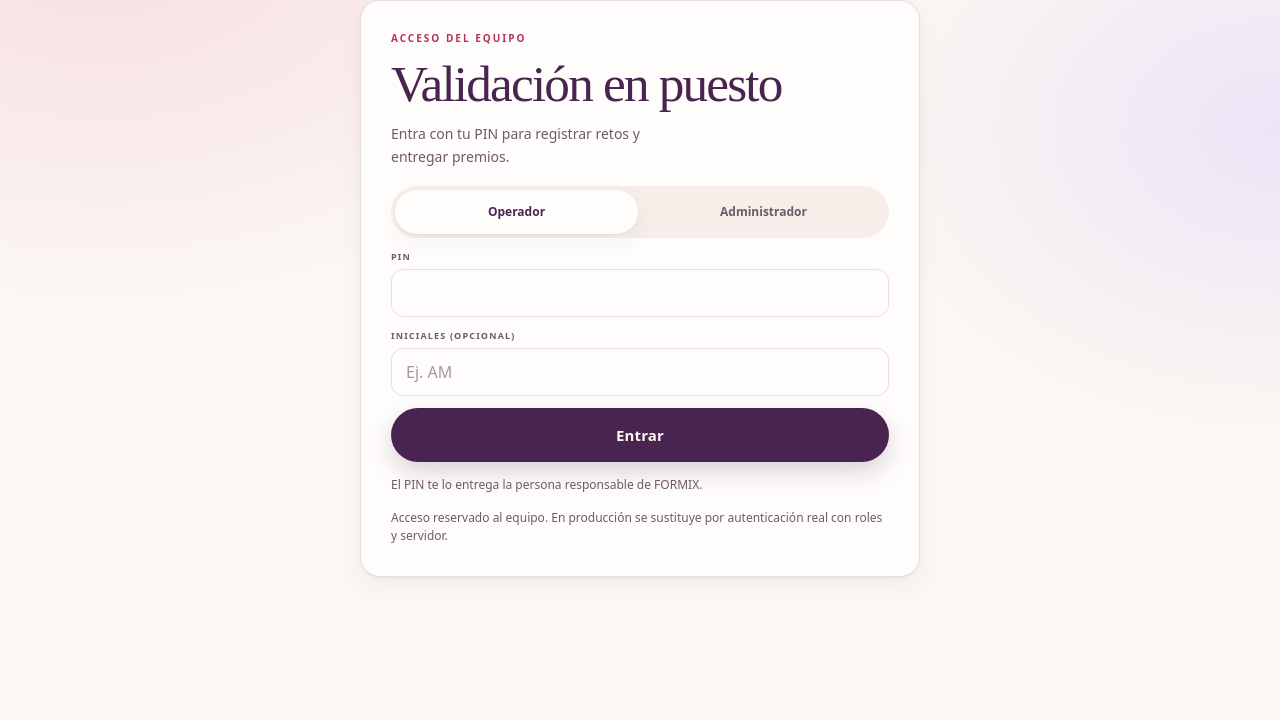
Test: staff login rejects a wrong PIN
The width and height of the screenshot is (1280, 720).
Type "0000" into the password field labelled "PIN" at (640, 293), box [391,269,889,317]
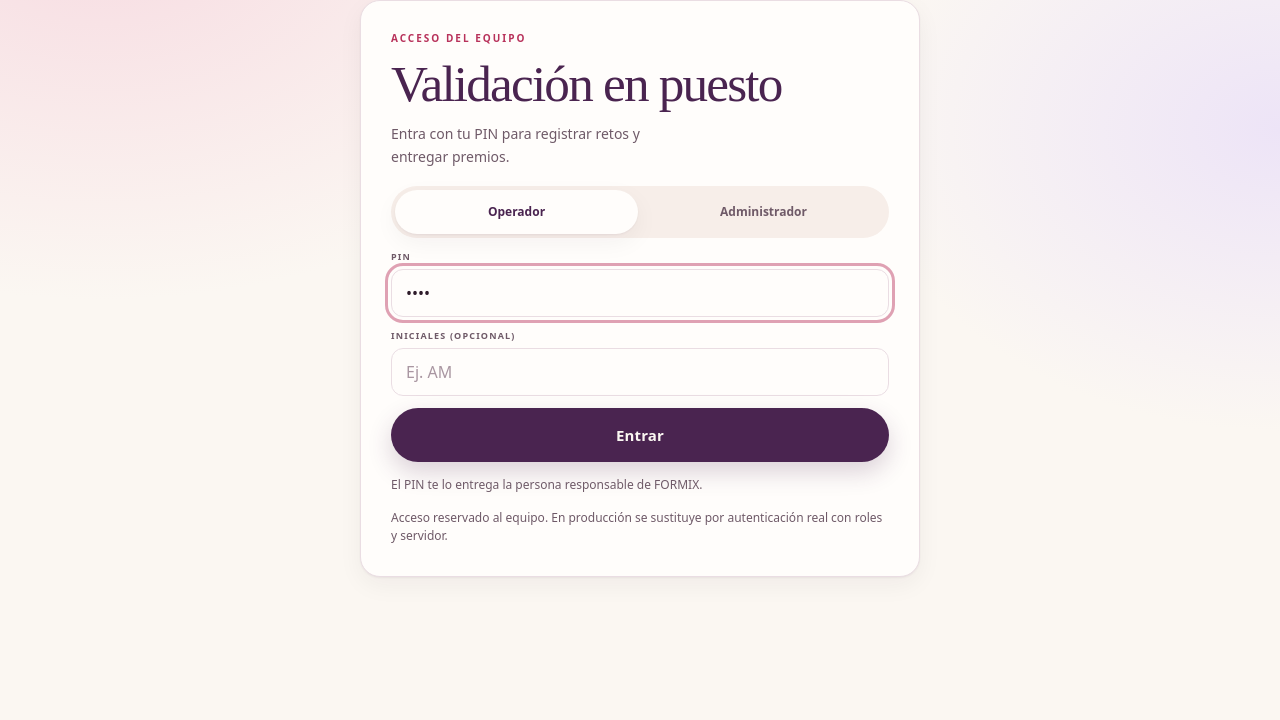
Click the button "Entrar" at (640, 435), box [391,408,889,462]
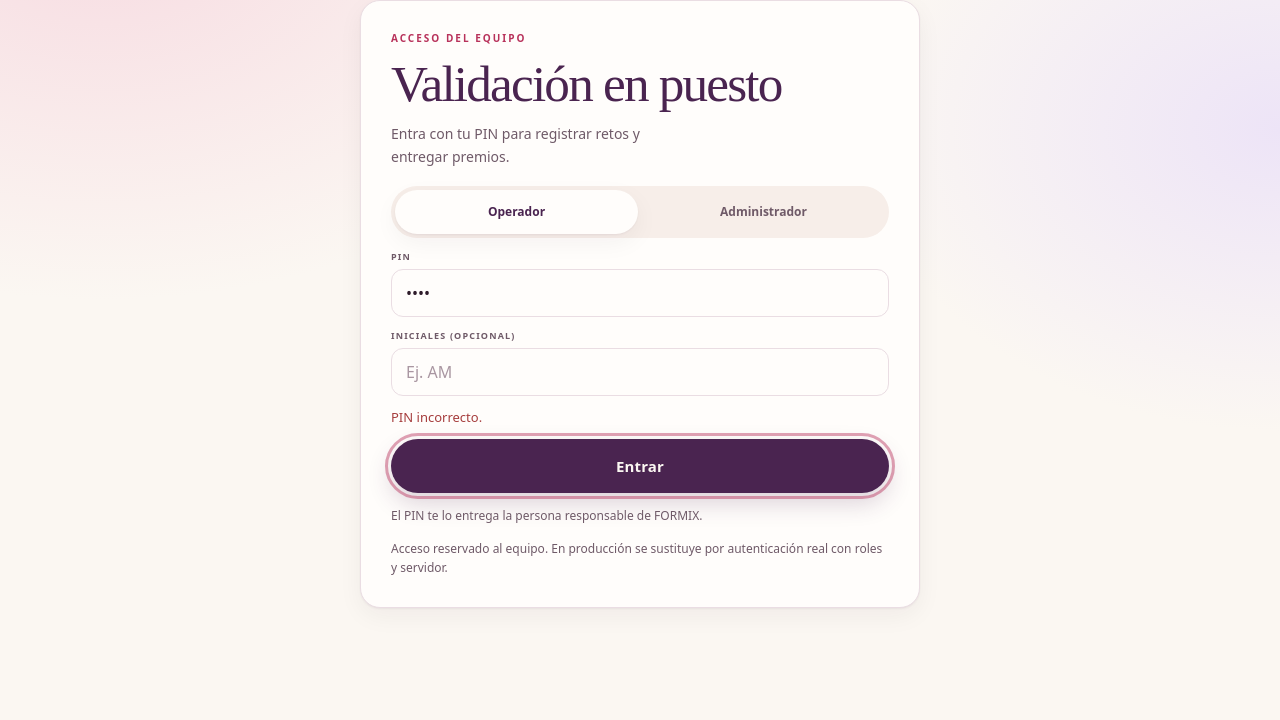
Now the text "PIN incorrecto." is shown, box [391,408,482,426]
